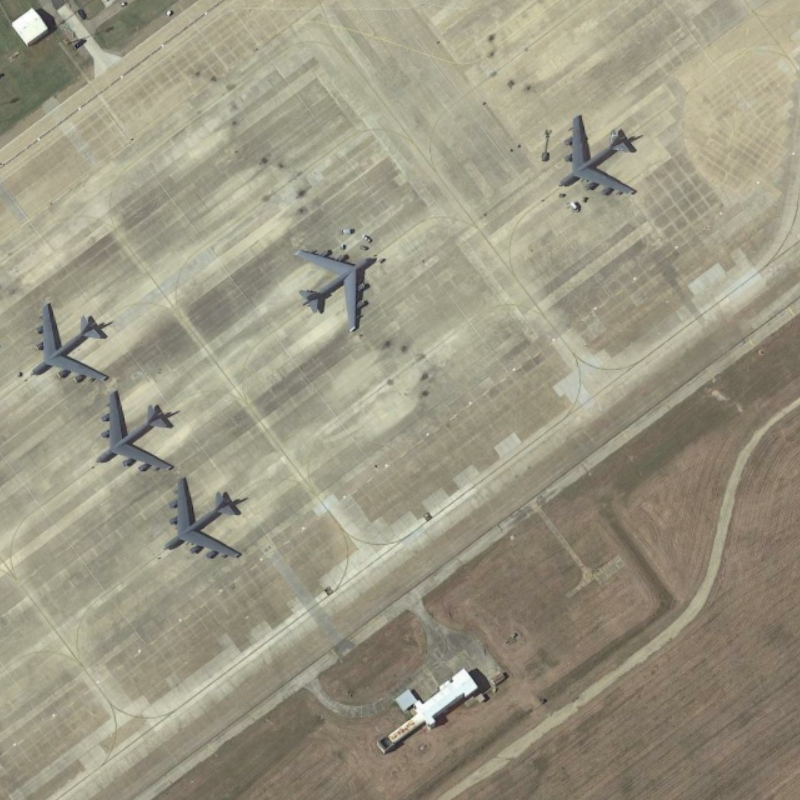A8: (289, 235, 385, 342), (19, 291, 119, 390), (149, 471, 249, 566), (557, 102, 644, 205), (88, 384, 184, 473)
